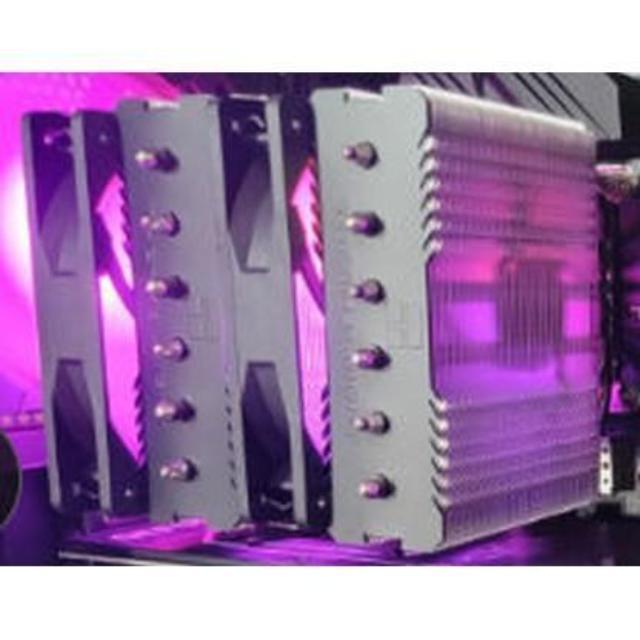CPU_Fan: (13, 82, 604, 558)
